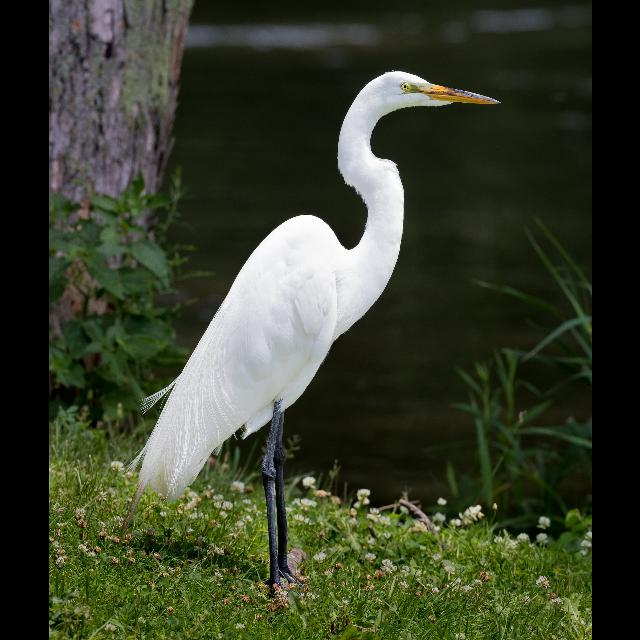egret: (134, 60, 508, 620)
